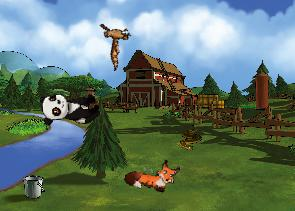eagle: (87, 12, 143, 71)
fox: (123, 151, 181, 197)
panda: (39, 90, 101, 126)
